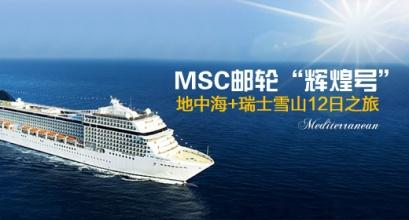youlun: (1, 92, 213, 185)
